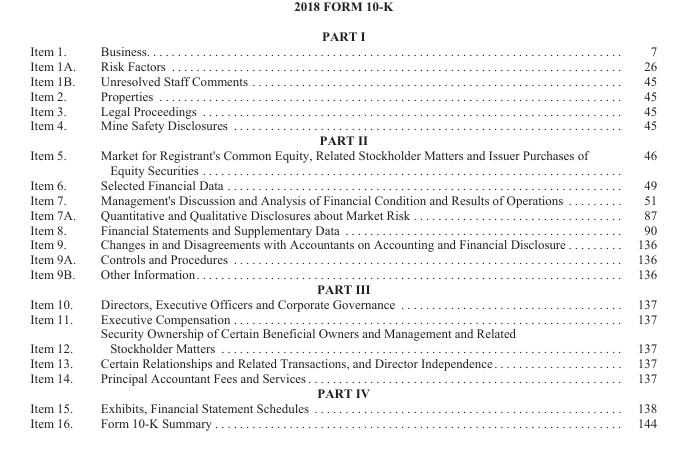table: (29, 28, 656, 429)
table column: (87, 28, 612, 429), (29, 28, 87, 429), (612, 28, 656, 429)
table column header: (29, 28, 656, 58)
table row: (29, 28, 656, 58), (29, 147, 656, 177), (29, 325, 656, 355), (29, 58, 656, 73), (29, 87, 656, 102), (29, 102, 656, 117), (29, 117, 656, 132), (29, 132, 656, 147), (29, 177, 656, 192), (29, 206, 656, 221), (29, 221, 656, 236), (29, 236, 656, 251), (29, 251, 656, 266), (29, 266, 656, 281), (29, 295, 656, 310), (29, 310, 656, 325), (29, 355, 656, 370), (29, 370, 656, 385), (29, 399, 656, 414), (29, 414, 656, 429), (29, 73, 656, 87), (29, 192, 656, 206), (29, 281, 656, 295), (29, 385, 656, 399)
table spanning cell: (29, 117, 87, 147), (29, 266, 87, 295), (29, 370, 87, 399)
